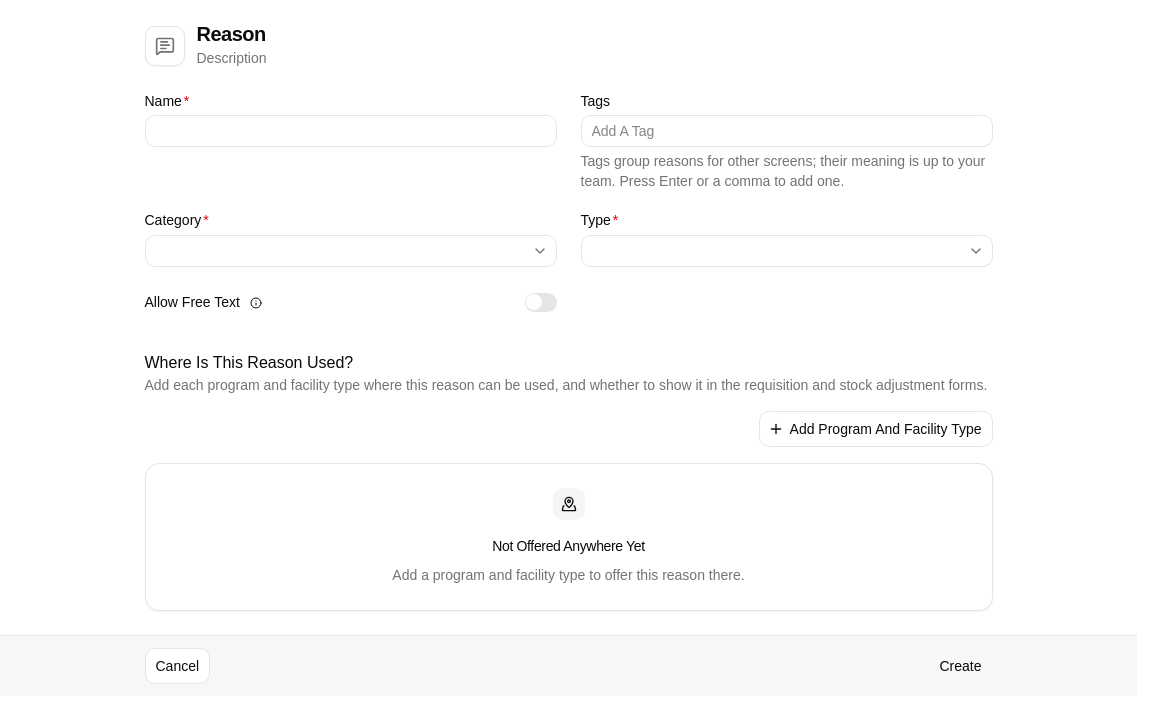
ReasonEditor › refuses another reason's name
Type "damage" into the field labelled "Name*".
click(350, 131); type("damage")  # box [144,115,556,147]
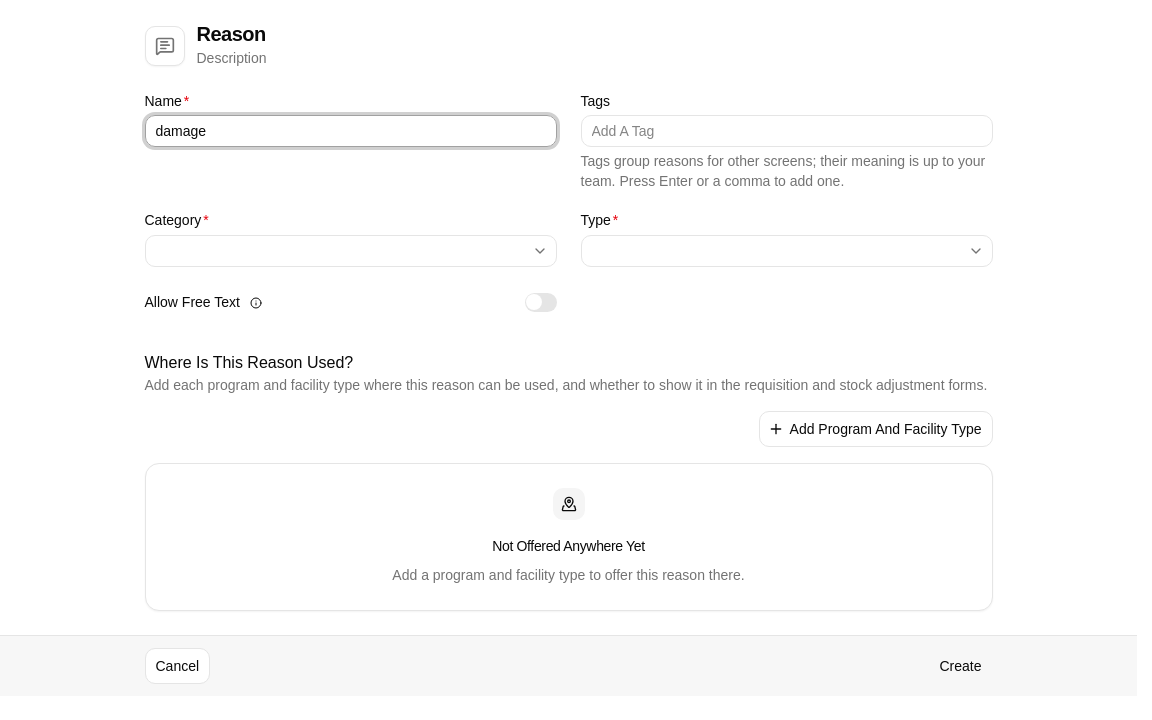
Click the button "Create".
click(960, 666)  # box [928,648,992,684]
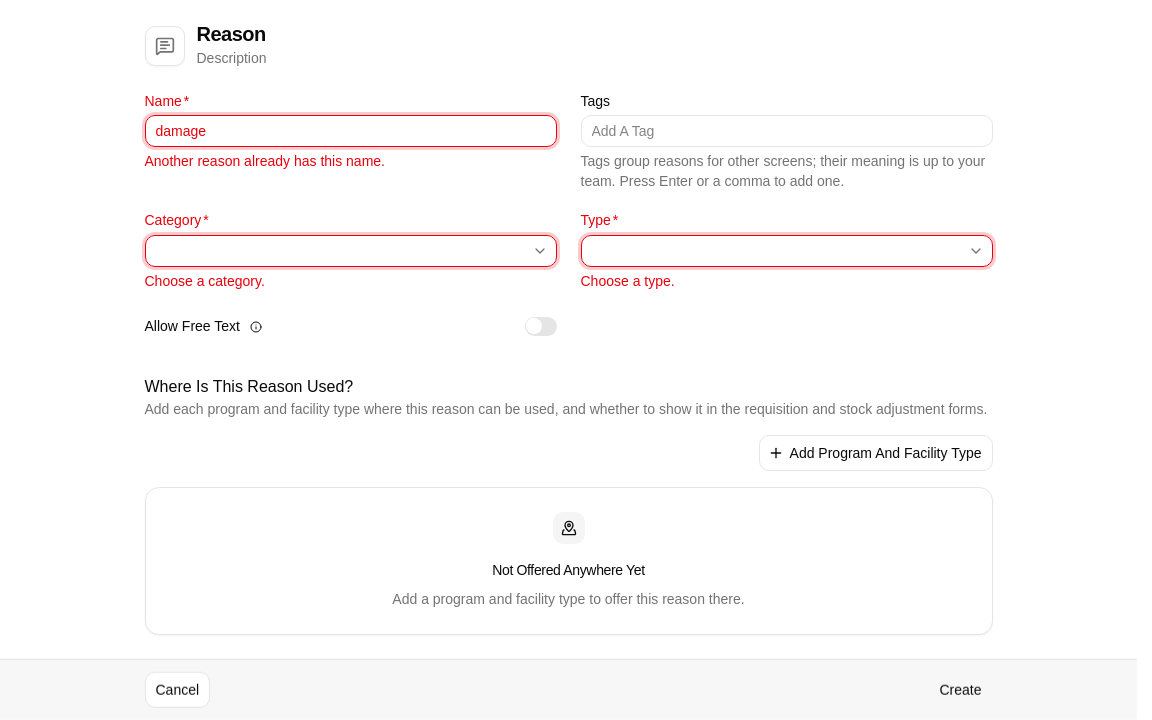
Check: the text "Another reason already has this name." is shown, box [144,153,385,169]
